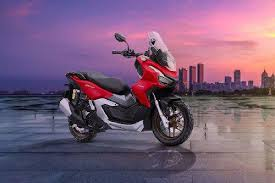motorcycle: (57, 31, 197, 146)
